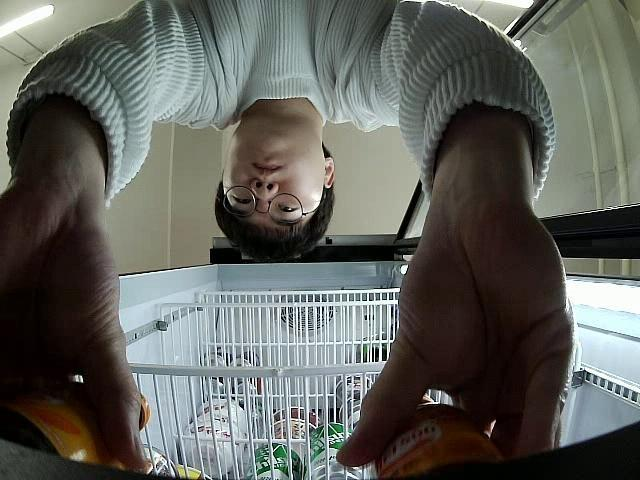17_vita500: (0, 389, 153, 480), (374, 396, 512, 480)
